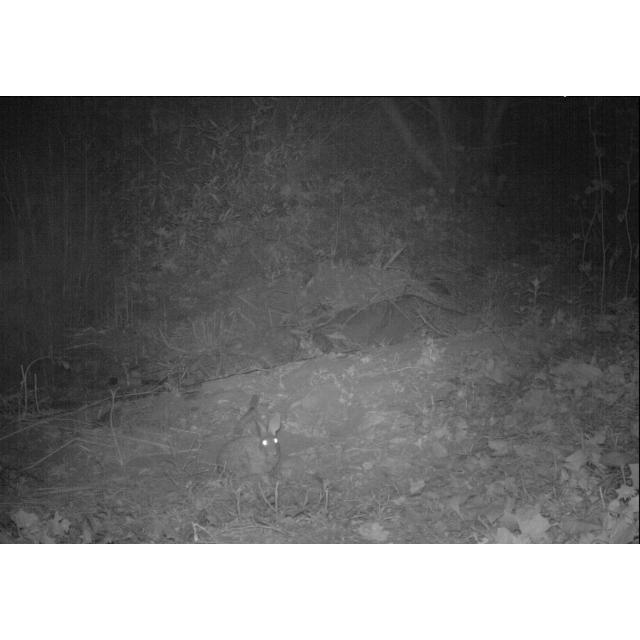animals: (214, 409, 288, 483)
